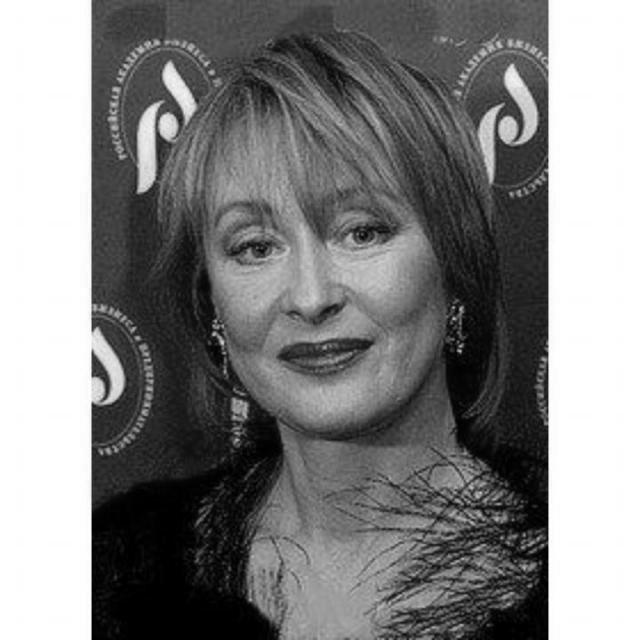real: (208, 106, 446, 435)
